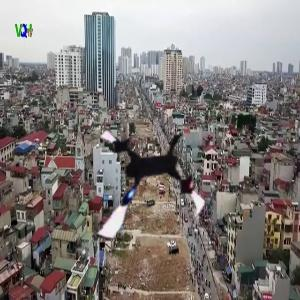drone: (73, 113, 215, 255)
